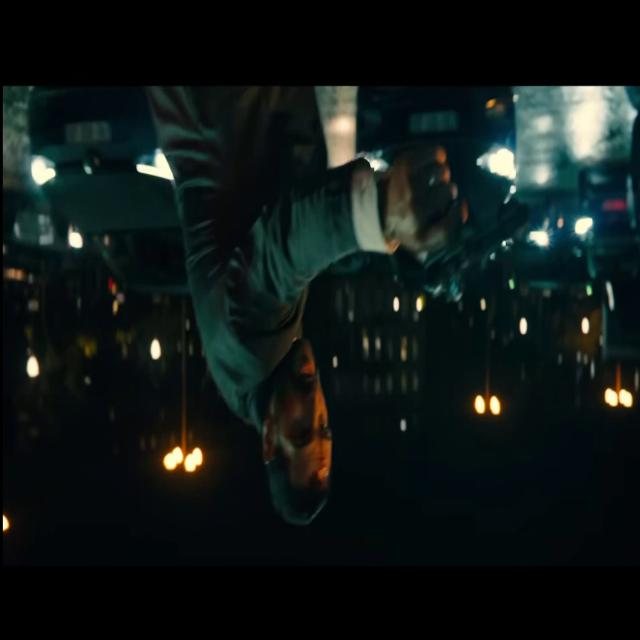weapons: (392, 140, 536, 298)
